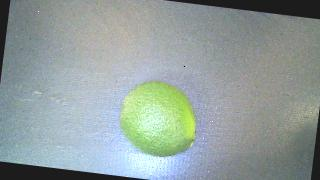EXPORTACION: (116, 77, 201, 160)
